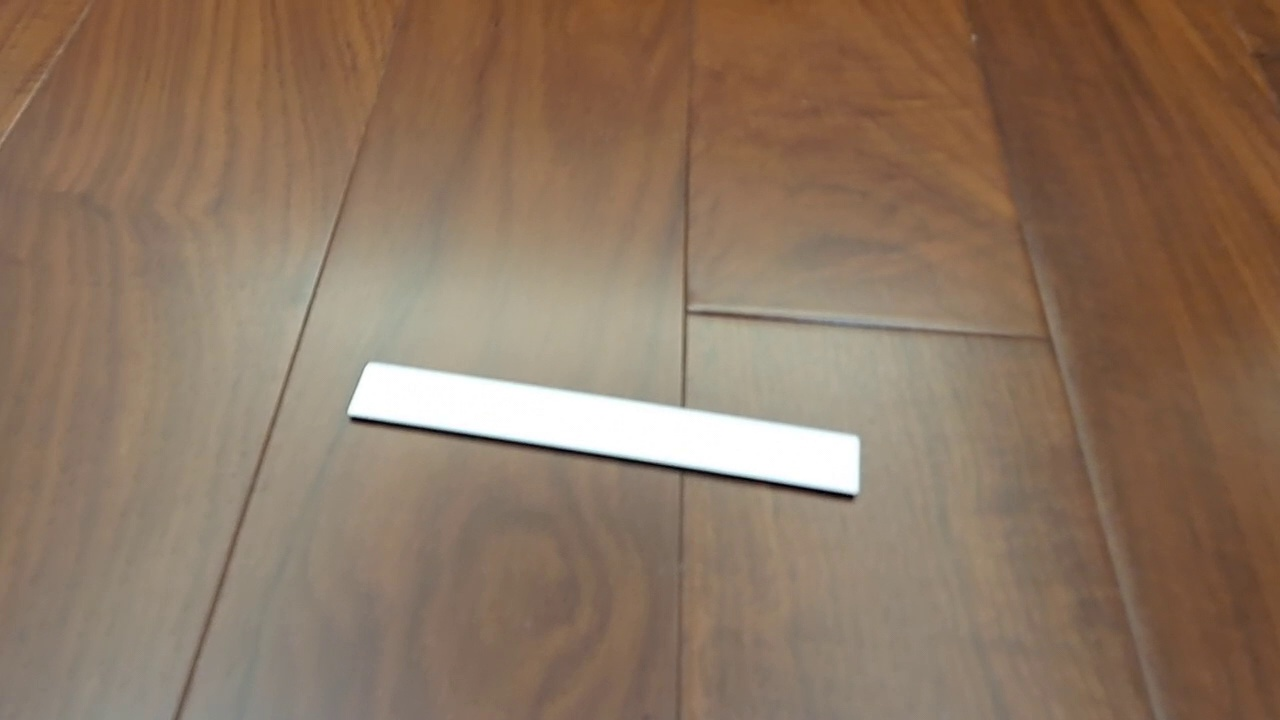ruler: (346, 360, 860, 498)
